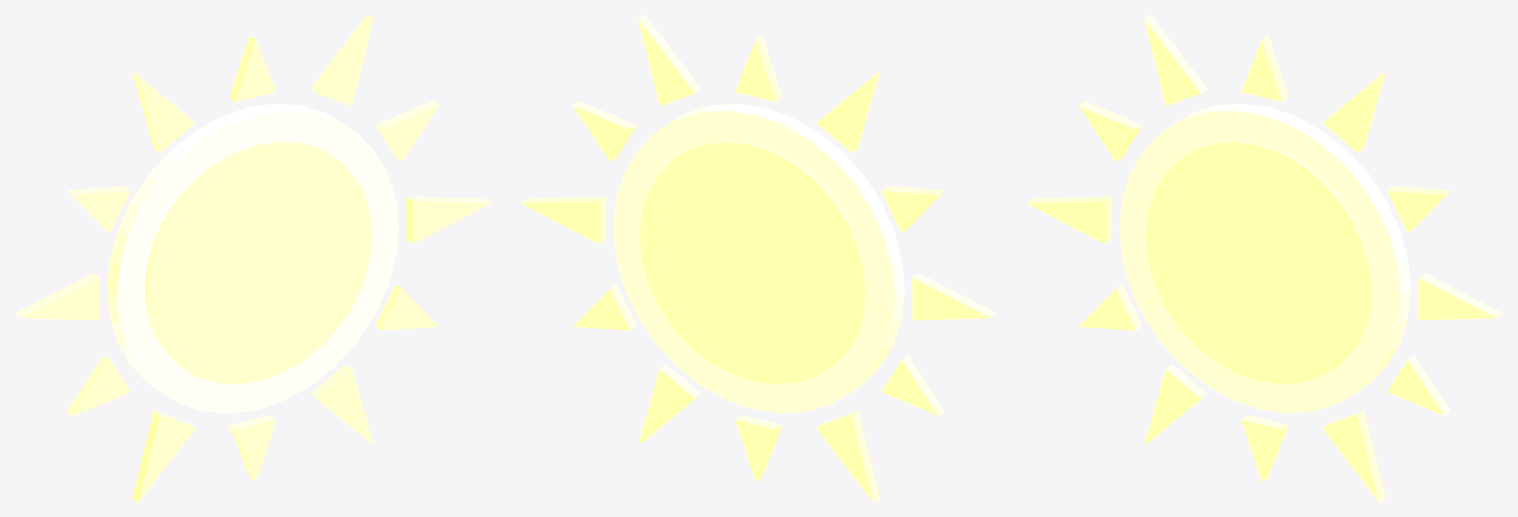
Rendered from sun.glb.
3 renders of one model, left to right at view 1: azimuth 30°, elevation 25°; view 2: azimuth 150°, elevation 25°; view 3: azimuth 330°, elevation 25°, orthographic.
Visible parts, largest first — view 1: Sun; view 2: Sun; view 3: Sun.
Boxes of the visible parts, box(x1,y1,x2,y2) form: Sun: box(14, 14, 491, 502); Sun: box(520, 14, 997, 502); Sun: box(1026, 14, 1503, 502).
Bounding box in the file's own units: 3.34 × 3 × 0.16.
